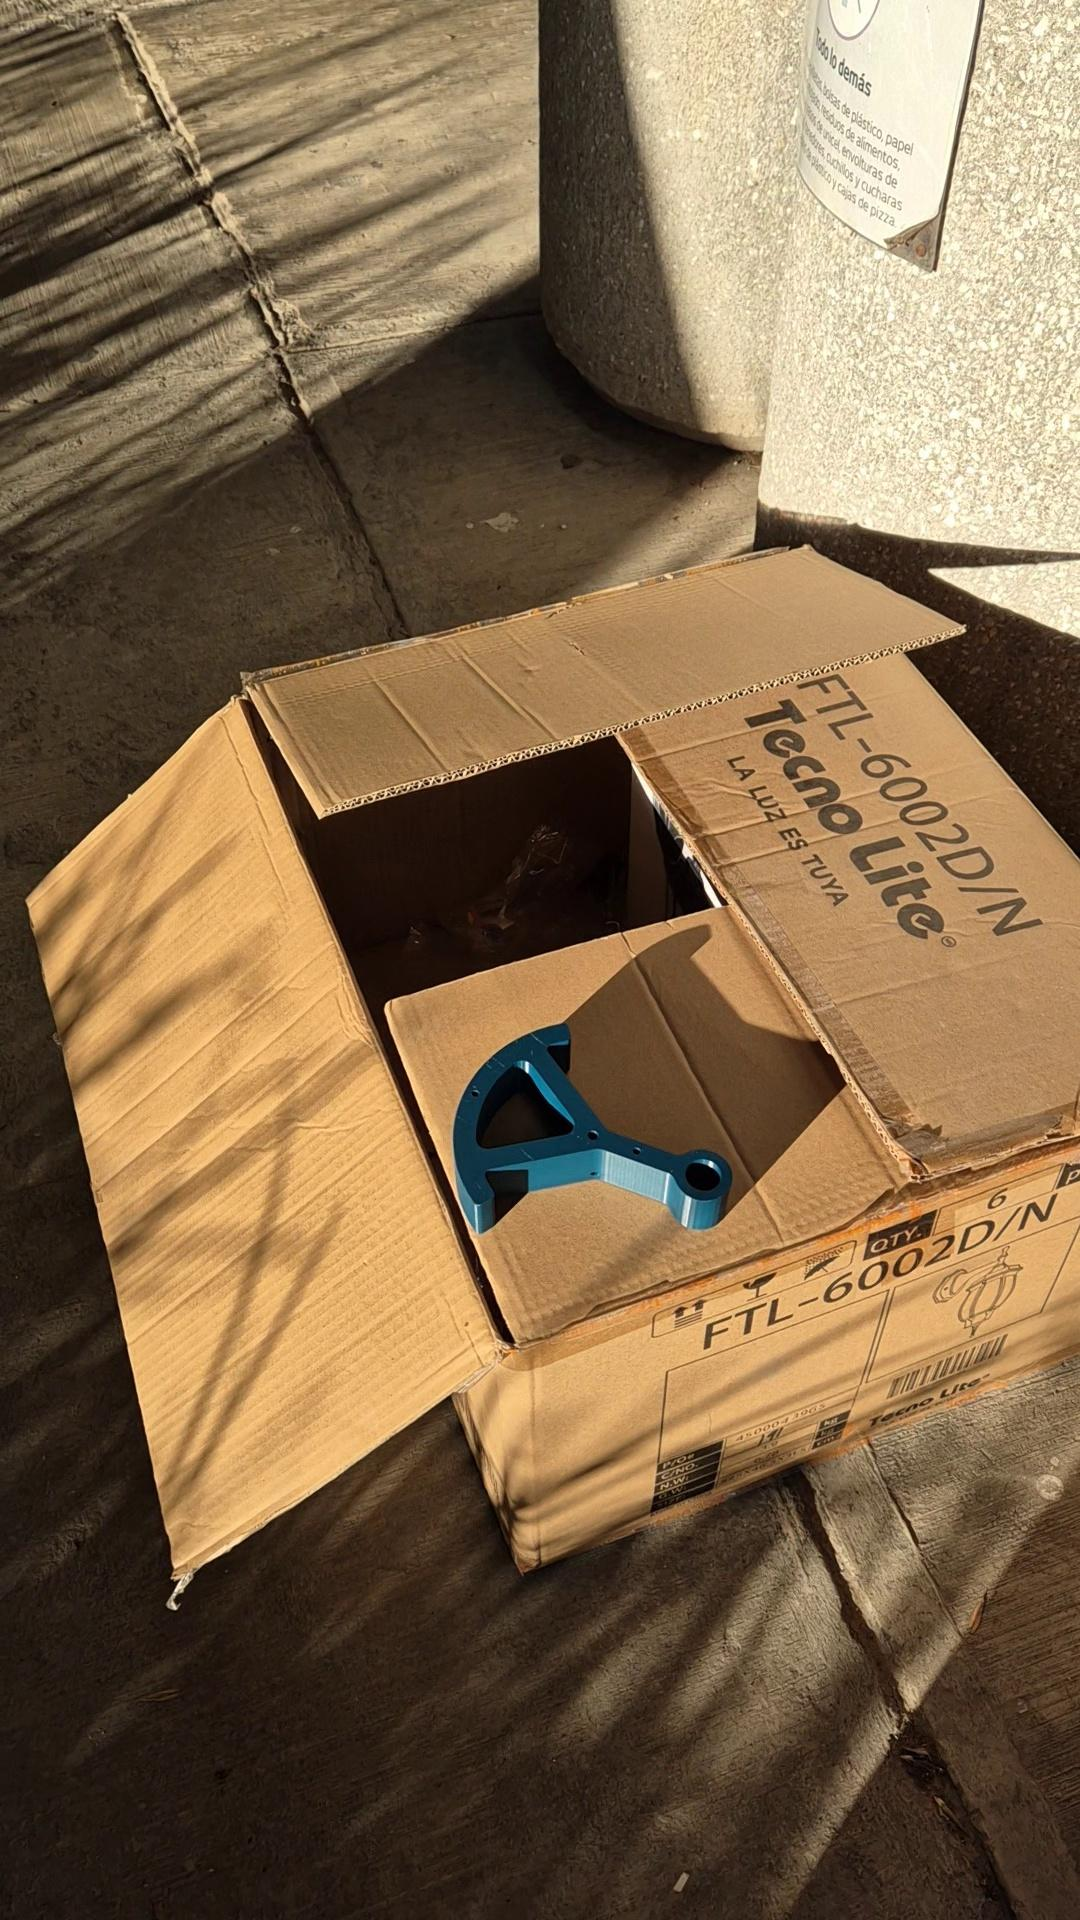Paddles: (448, 1022, 735, 1236)
